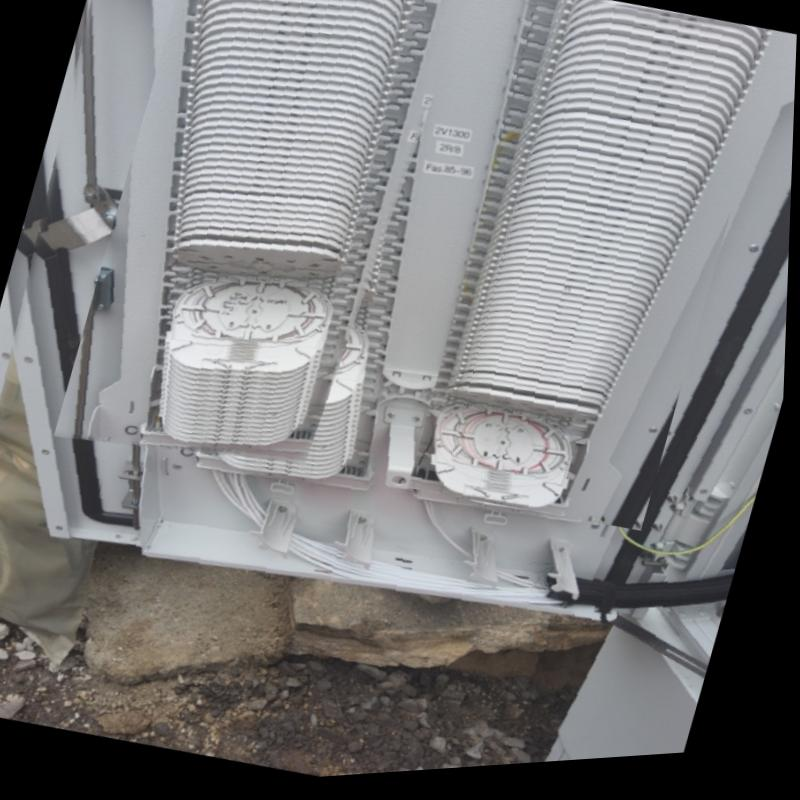NT-Gehause: (10, 0, 797, 771)
Spleiskassetten: (417, 0, 777, 526), (151, 0, 443, 470)
